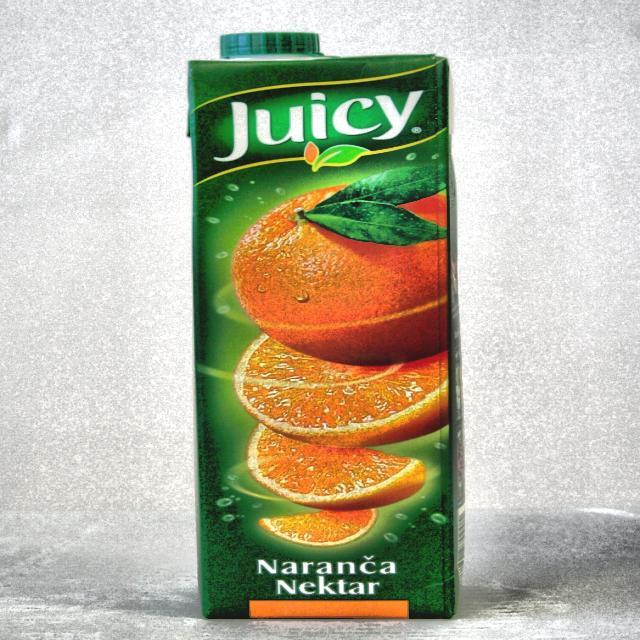cardboard: (186, 33, 464, 620)
